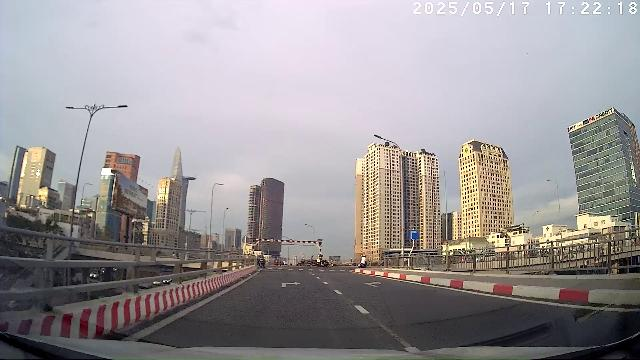301d-cac-xe-chi-duoc-re-phai-2: (408, 230, 418, 240)
